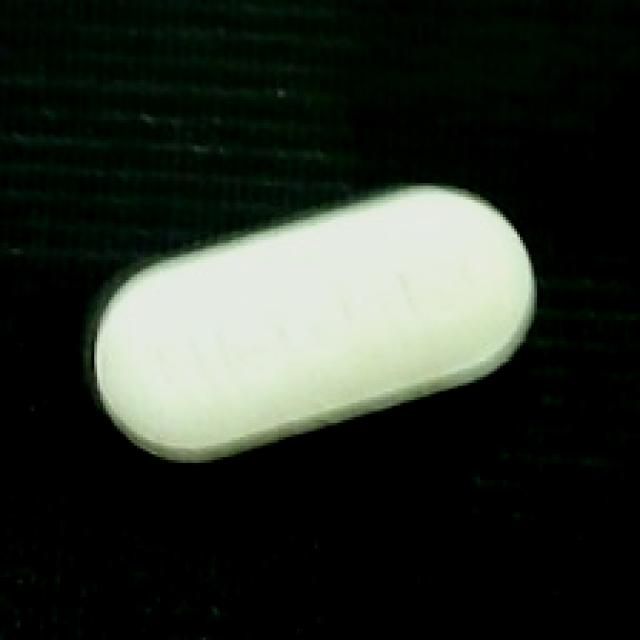no-defect: (91, 181, 540, 465)
